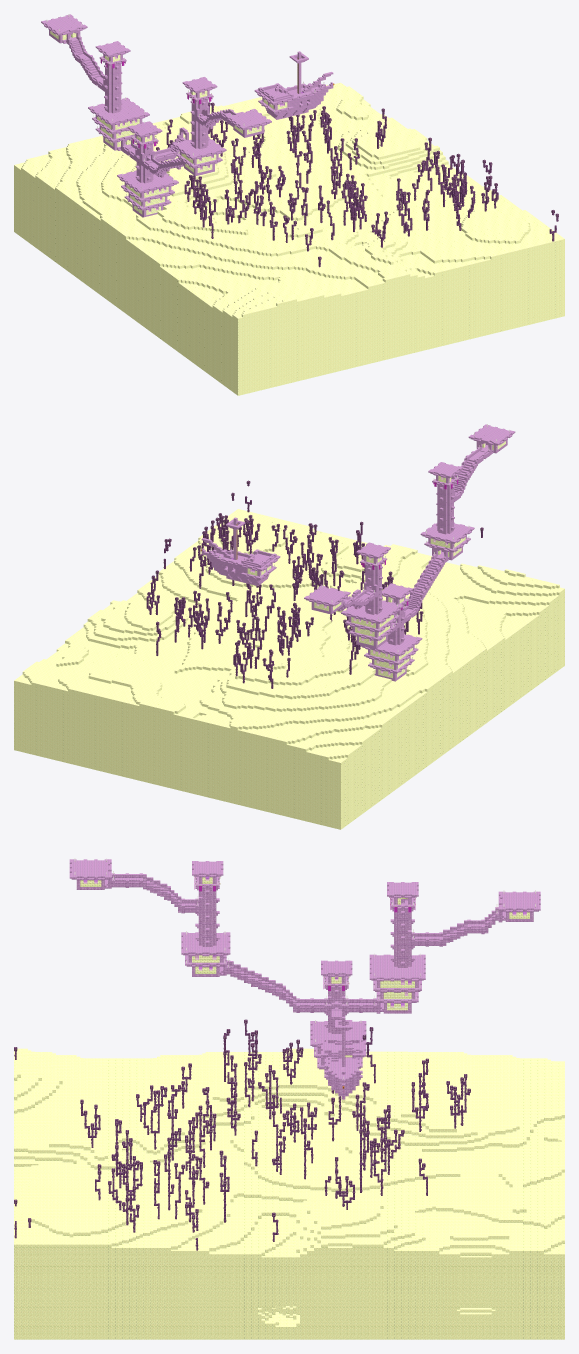
Rendered from end-city.glb.
3 views of the same model, one above another, from view 1: azimuth 30°, elevation 25°; view 2: azimuth 150°, elevation 25°; view 3: azimuth 270°, elevation 25° (orthographic). The views are drawn at different scales.
Visible parts, largest first — view 1: Object_3; view 2: Object_3; view 3: Object_3.
Part boxes in pixels (bbox=[...]): Object_3: bbox=[14, 14, 564, 395]; Object_3: bbox=[14, 424, 564, 829]; Object_3: bbox=[14, 859, 564, 1339].
Size of the model in its own units: 1.37 by 0.9897 by 1.63.
4 materials, 4 textured.
